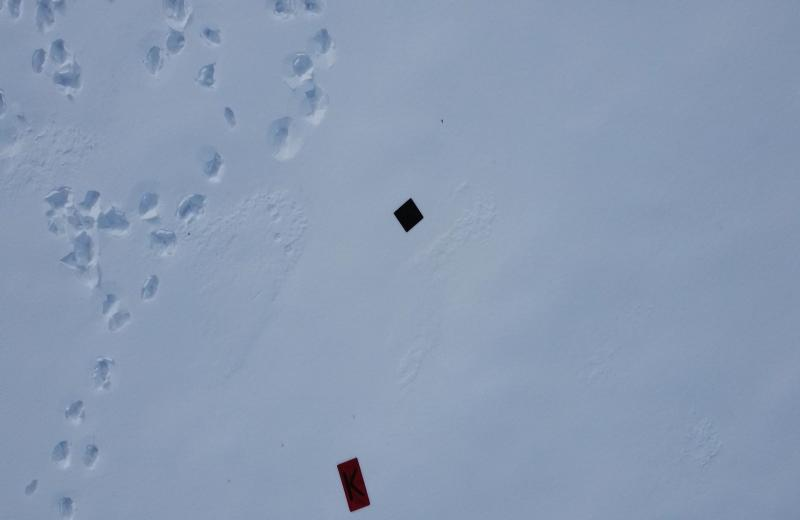Rectangle: (336, 457, 372, 515)
Square: (394, 200, 427, 238)
